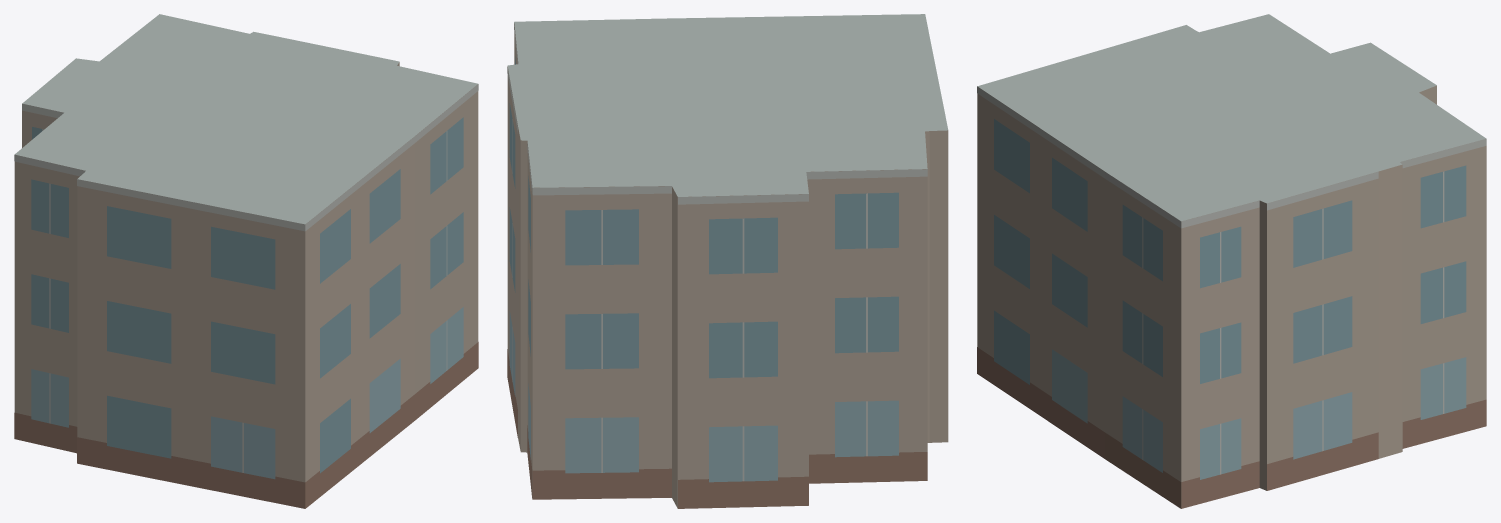
File: survey-upis-32619293.glb
The picture shows the model from 3 angles, left to right: view 1: azimuth 30°, elevation 25°; view 2: azimuth 150°, elevation 25°; view 3: azimuth 270°, elevation 25°; orthographic projection. The views are drawn at different scales.
Parts seen in each view (by area): view 1: survey-upis-32619293.tmp; view 2: survey-upis-32619293.tmp; view 3: survey-upis-32619293.tmp.
Part boxes in pixels (x1,y1,x2,y2): survey-upis-32619293.tmp: [14, 14, 478, 508]; survey-upis-32619293.tmp: [507, 14, 948, 508]; survey-upis-32619293.tmp: [977, 14, 1486, 508].
Bounding box in the file's own units: 15.4 × 9.95 × 15.99.
